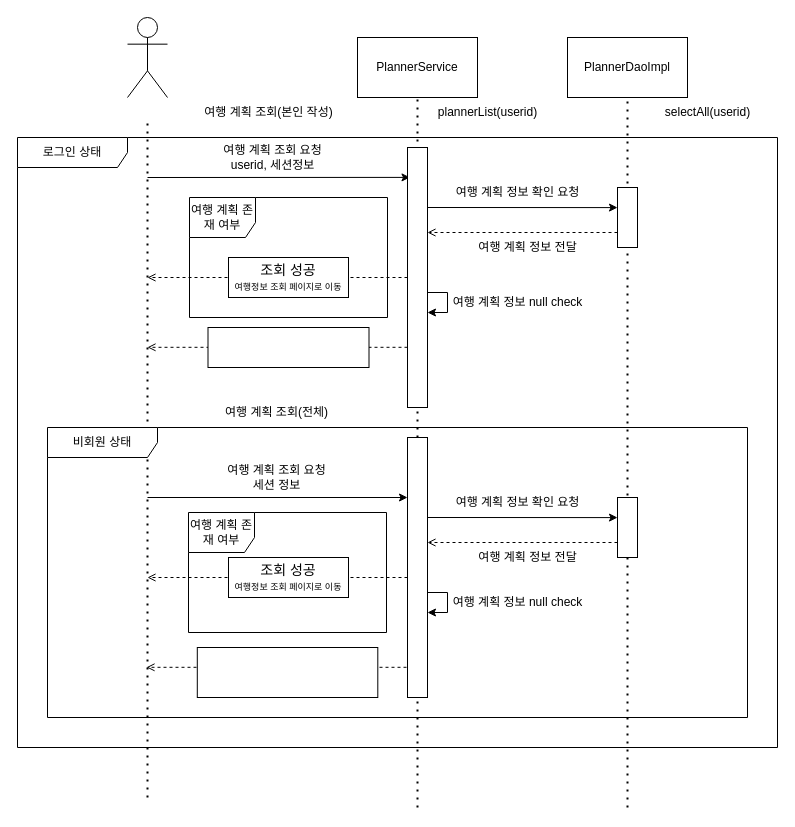
Image size: 795x827. Some labels were removed from this diagram. The centre of each missing label's shape, as x and y in pixels:
"사용자" goes at [147,57].
"조회 실패 message :작성한 여행정보가 없습니다" goes at [288,347].
"조회 실패 message :조회가능한 여행정보가 없습니다" goes at [287,672].
